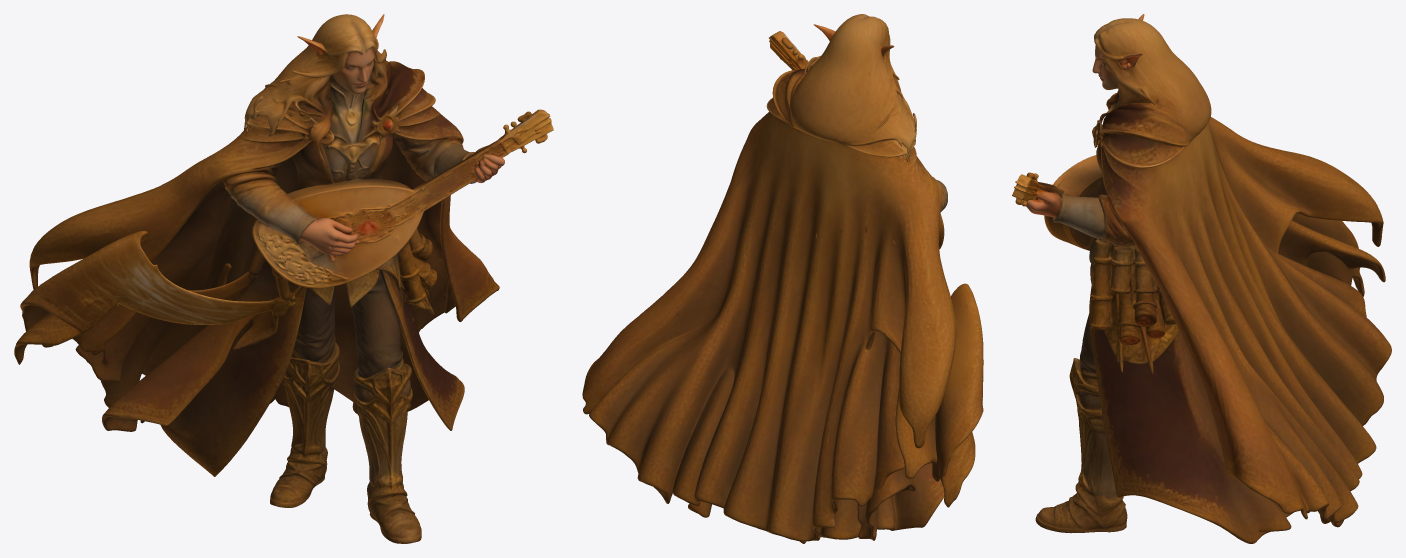
The model's file is elf_bard_full_male_01.glb.
The picture shows the model from 3 angles, left to right: view 1: azimuth 30°, elevation 25°; view 2: azimuth 150°, elevation 25°; view 3: azimuth 270°, elevation 25°; orthographic projection. The views are drawn at different scales.
Visible parts, largest first — view 1: material; view 2: material; view 3: material.
Boxes of the visible parts, x1,y1,x2,y2 form: material: [14, 14, 553, 543]; material: [582, 14, 983, 543]; material: [1012, 14, 1391, 543].
Size of the model in its own units: 0.9352 by 1.01 by 0.7054.
Materials: 1 (1 with a texture image).
